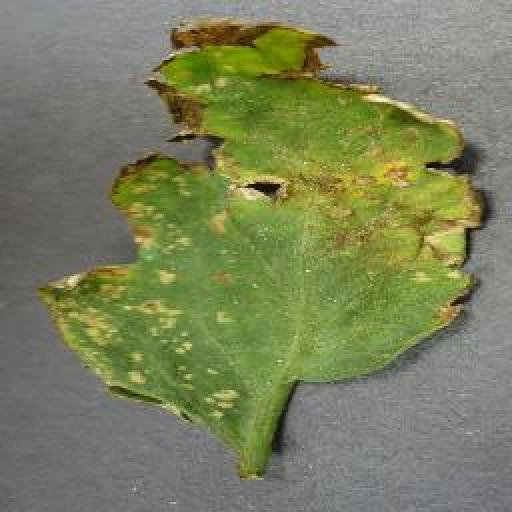Bacterial Spot: (31, 11, 500, 490)
